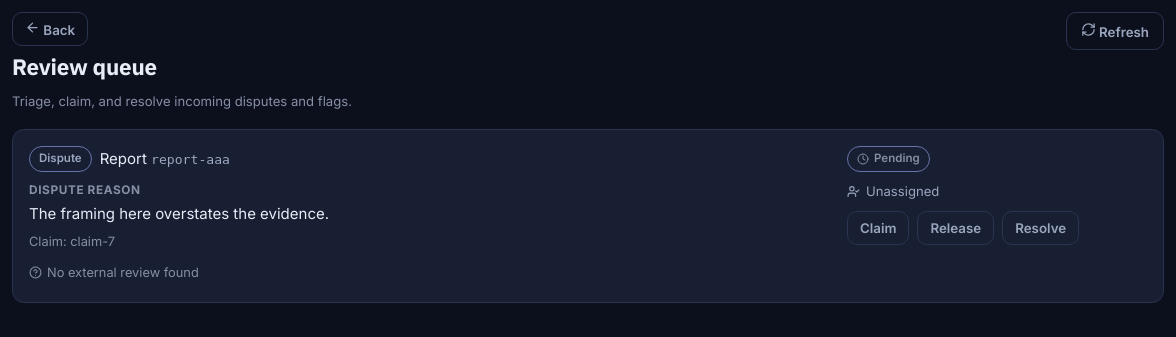
Test case: ReviewerConsole › leaves the item unchanged and keeps controls operable when a claim fails
Click the button with aria-label "claim review item for report report-aaa".
click(878, 228)  # box [847,211,910,245]
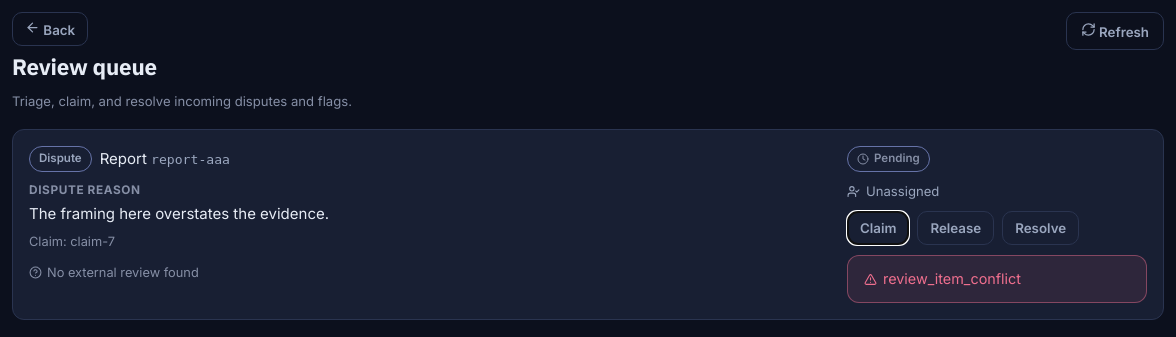
Expected: the text "Pending" is shown, [847,146,930,172]
Now the message reads "review_item_conflict", box [883,270,1021,287]
